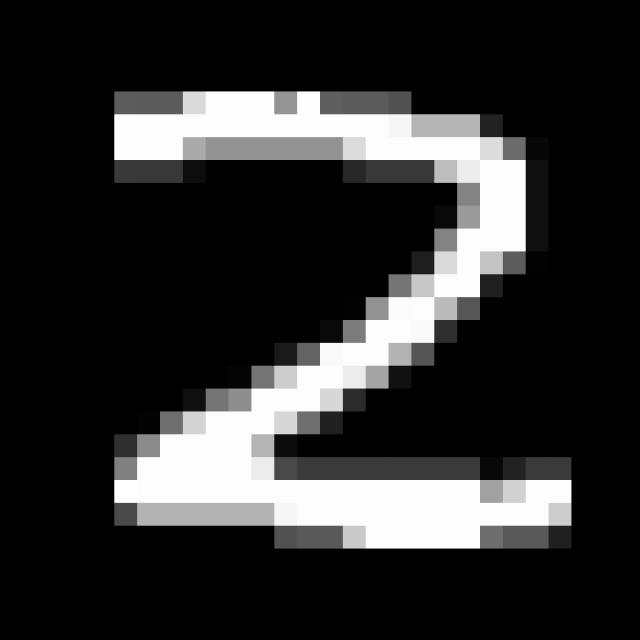two -2-: (94, 64, 594, 566)
